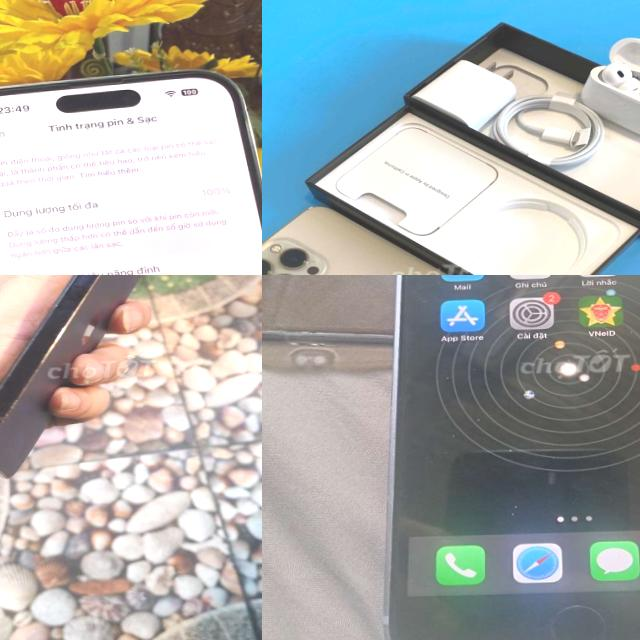gen_12_13: (262, 198, 528, 275)
gen_14: (0, 65, 262, 275), (0, 275, 141, 478)
gen_7_8: (364, 275, 640, 640)
